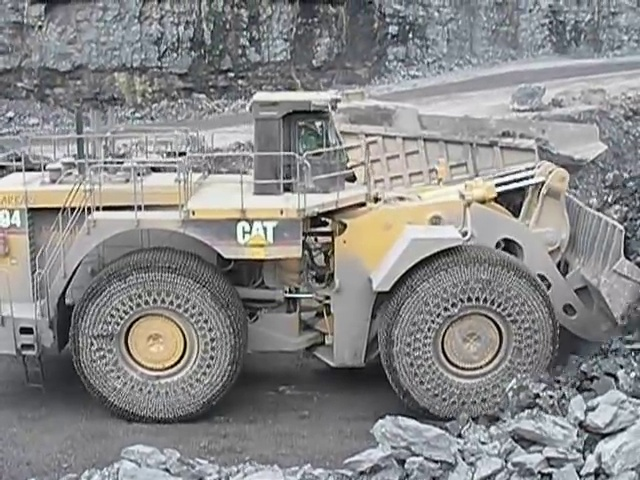wheel loader: (1, 88, 640, 423)
